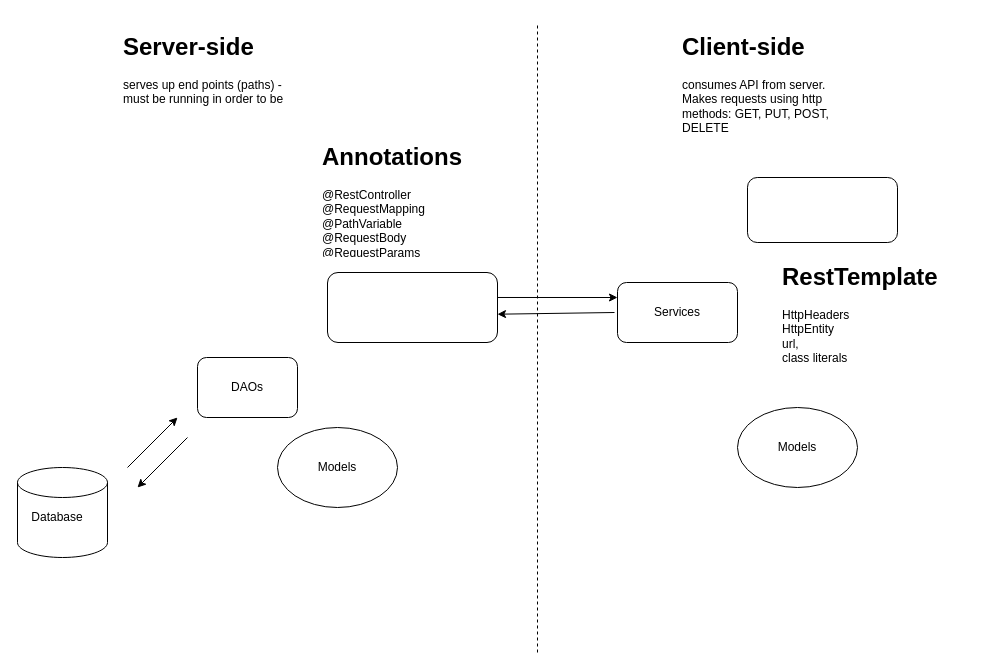
The diagram is 985 pixels wide and 671 high, and some of its shapes have lost their labels. The shapes that lost their labels are listed below. From the top down, each one's centre as x and y in pixels, then its label:
At point (822, 209): "App".
At point (412, 307): "Controller".
